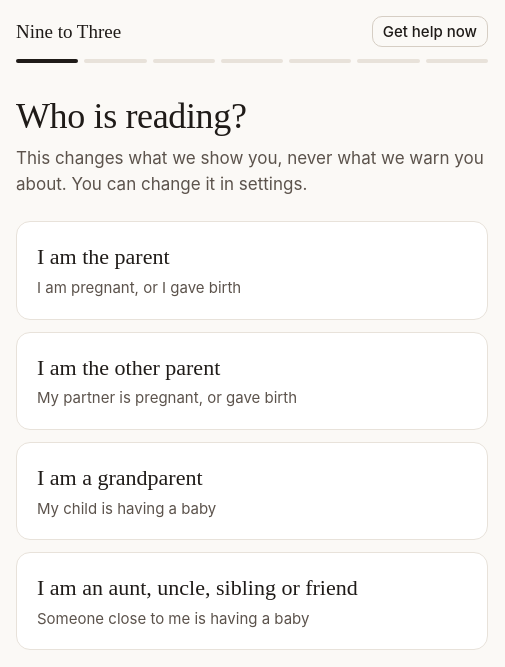
Scenario: OnboardingFlow › asks where you are right now once it knows the reader
Click the button "I am the parent I am pregnant, or I gave birth" at (103, 257), box x1=16 y1=221 x2=488 y2=320
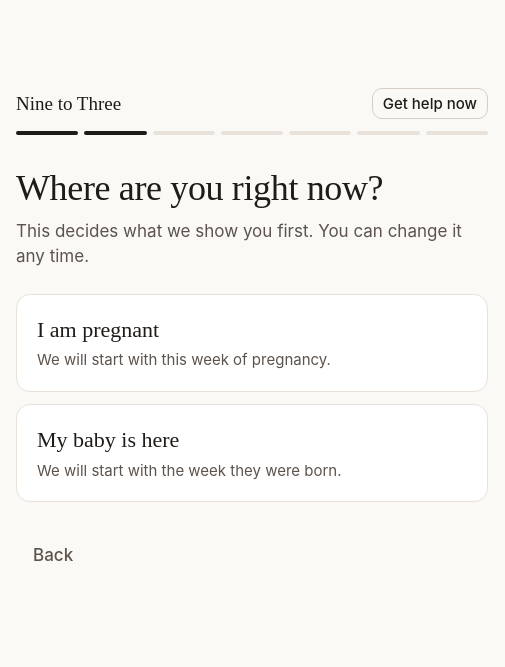
Now the heading "Where are you right now?" is shown, box x1=16 y1=168 x2=383 y2=208
Now the button "I am pregnant We will start with this week of pregnancy." is shown, box x1=16 y1=294 x2=488 y2=392
Now the button "My baby is here We will start with the week they were born." is shown, box x1=16 y1=404 x2=488 y2=502
